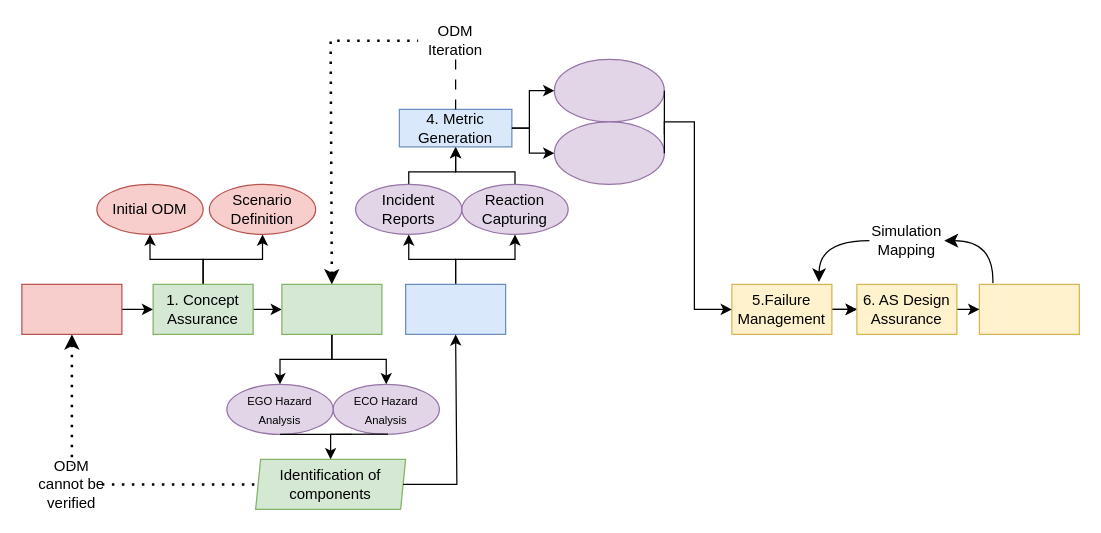
Image size: 1101x533. Some labels were removed from this diagram. The shapes that lost their labels are listed below. From the top down, each one's centre as x and y in pixels, then its label:
At (608,90): "Criticality Determination".
At (608,152): "ODM Verification.".
At (71,308): "Concept".
At (331,308): "2. Hazard Identification".
At (455,308): "3. Requirements Capturing / Assurance".
At (1028,308): "7. Safe Operating Context".
